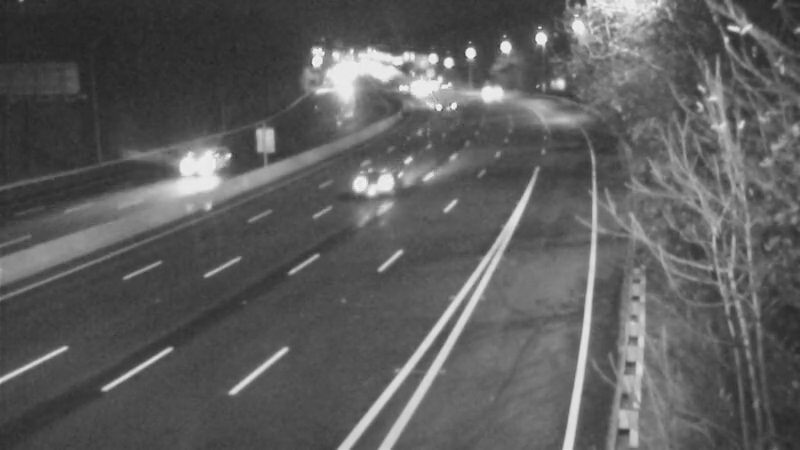vehicle: (331, 142, 411, 222), (161, 121, 241, 201), (472, 69, 522, 119), (416, 69, 466, 119)
